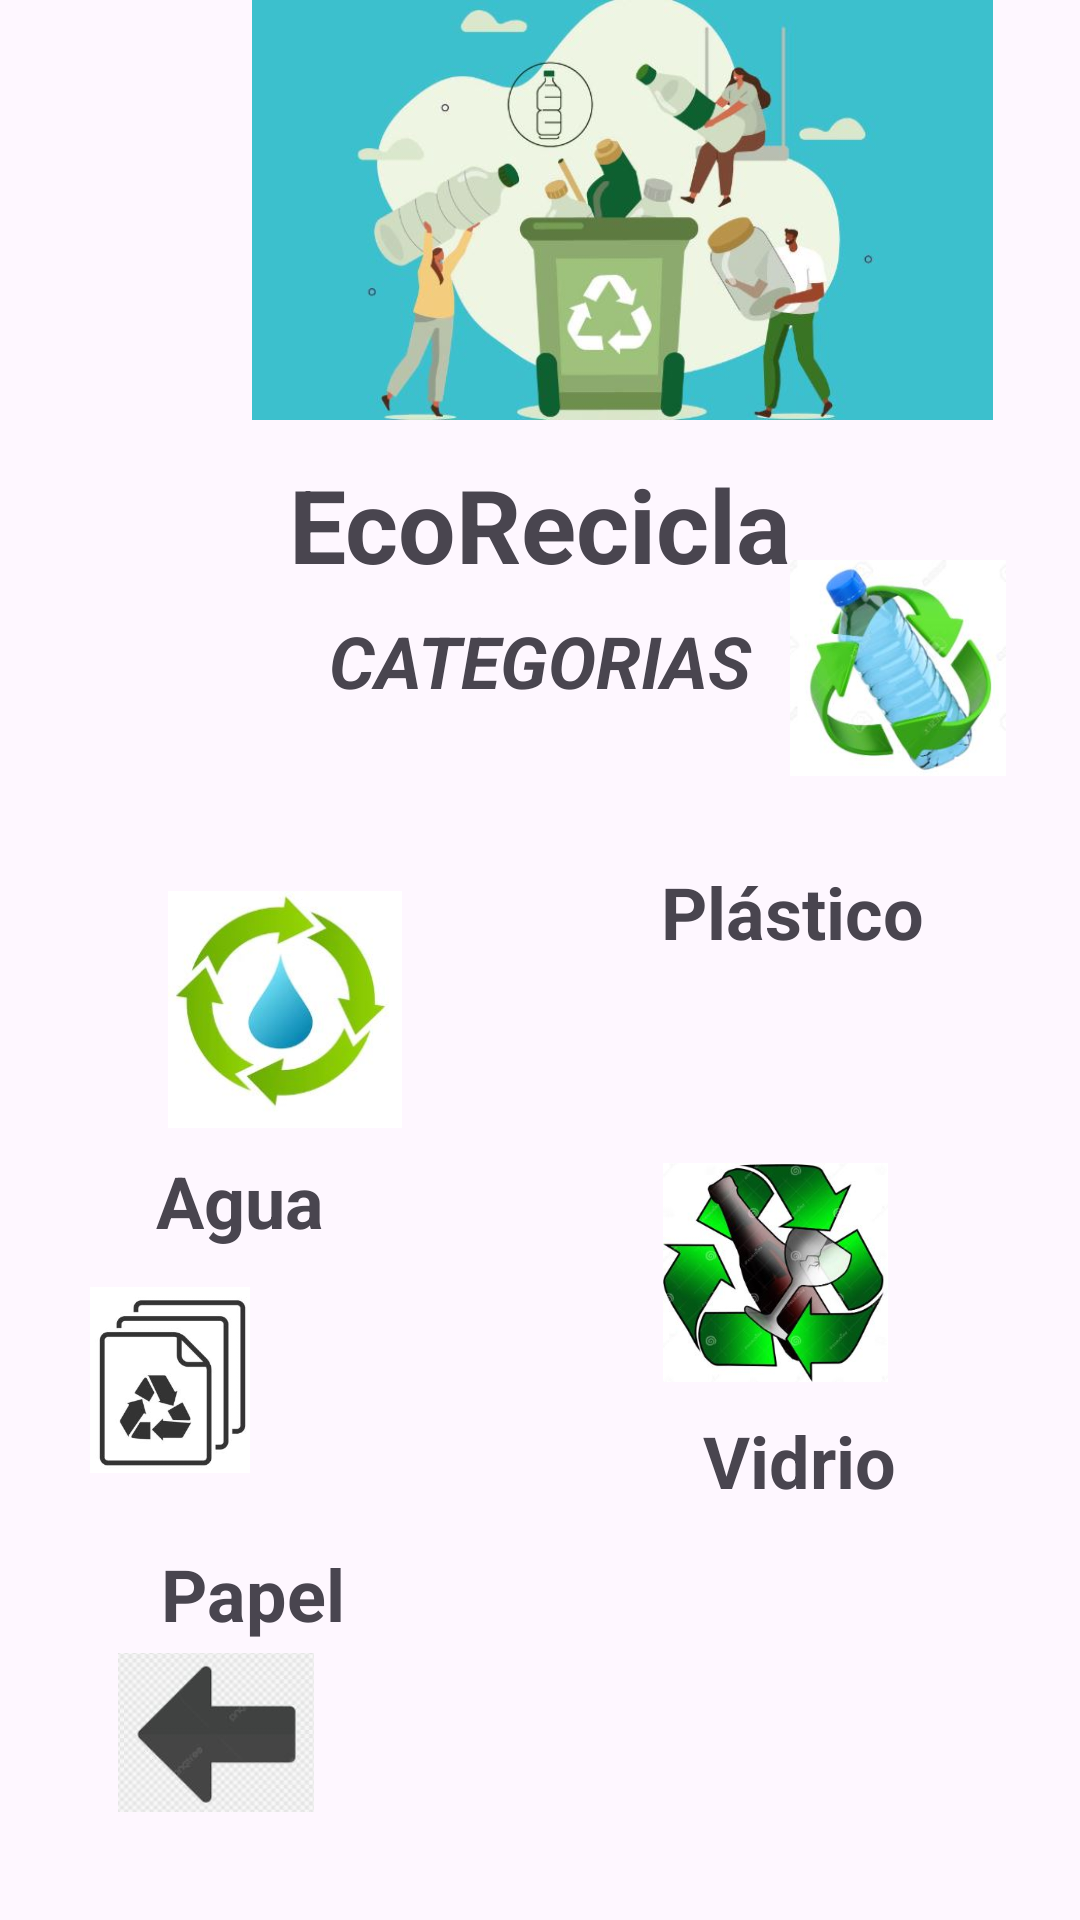

Icon bounding boxes for this 1080×1920 phone screenshot, format [x1, y1, x2, y2]:
atras: [118, 1653, 314, 1812]
plastico recicla: [810, 569, 992, 770]
